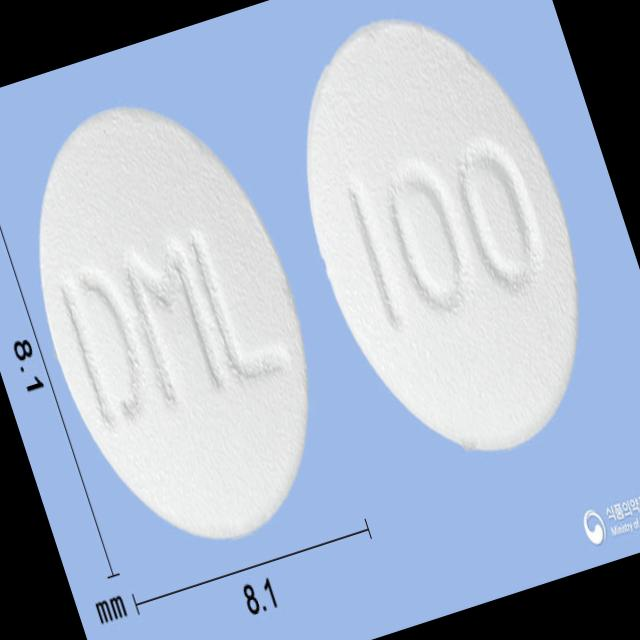Hi Levo: (0, 69, 361, 576), (257, 0, 630, 486)
